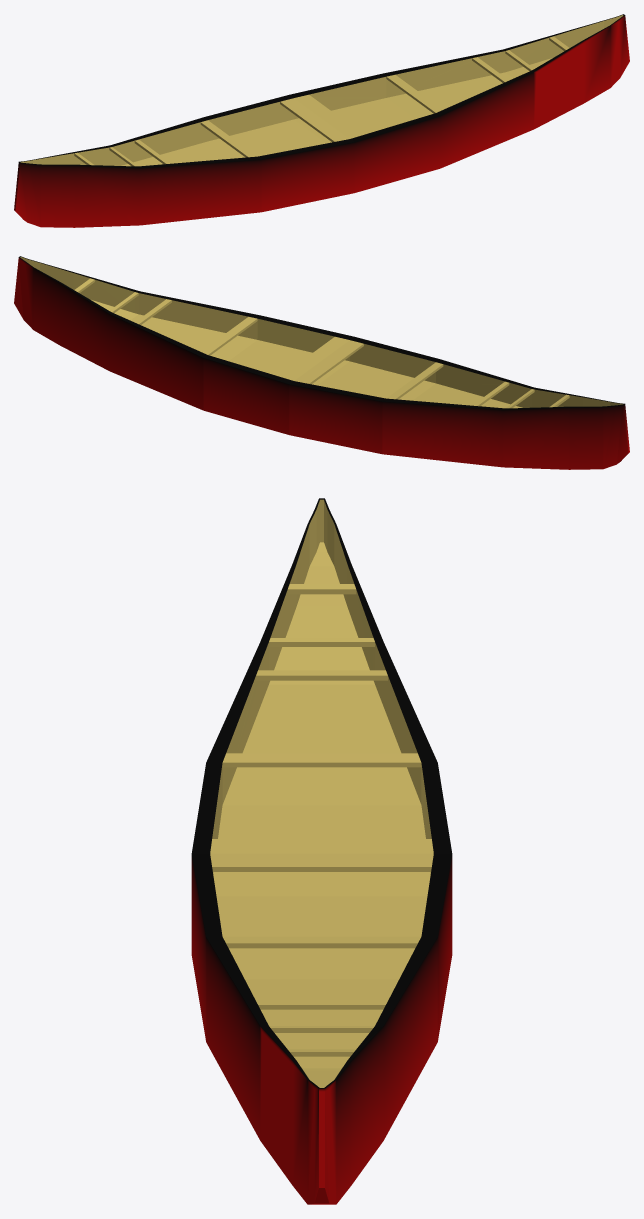
Rendered from canoe.lod1.glb.
3 renders of one model, top to bottom at view 1: azimuth 30°, elevation 25°; view 2: azimuth 150°, elevation 25°; view 3: azimuth 270°, elevation 25°, orthographic. The views are drawn at different scales.
Visible parts, largest first — view 1: Object_4; view 2: Object_4; view 3: Object_4.
Part boxes in pixels (x1,y1,x2,y2): Object_4: [14, 14, 629, 227]; Object_4: [14, 256, 629, 469]; Object_4: [191, 498, 452, 1204].
Size of the model in its own units: 4.6 by 0.5784 by 0.8446.
